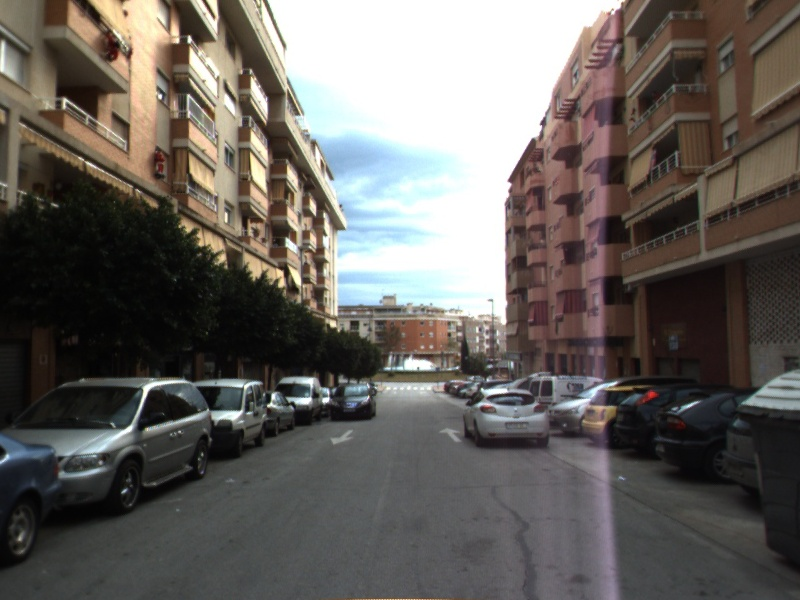STRAIGHT: (437, 425, 465, 444)
